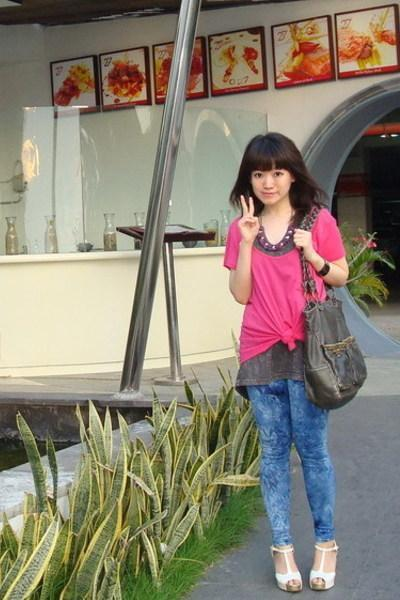bag: (302, 300, 366, 412)
pants: (248, 379, 347, 555)
shirt: (217, 204, 344, 393)
shoe: (272, 541, 337, 587)
